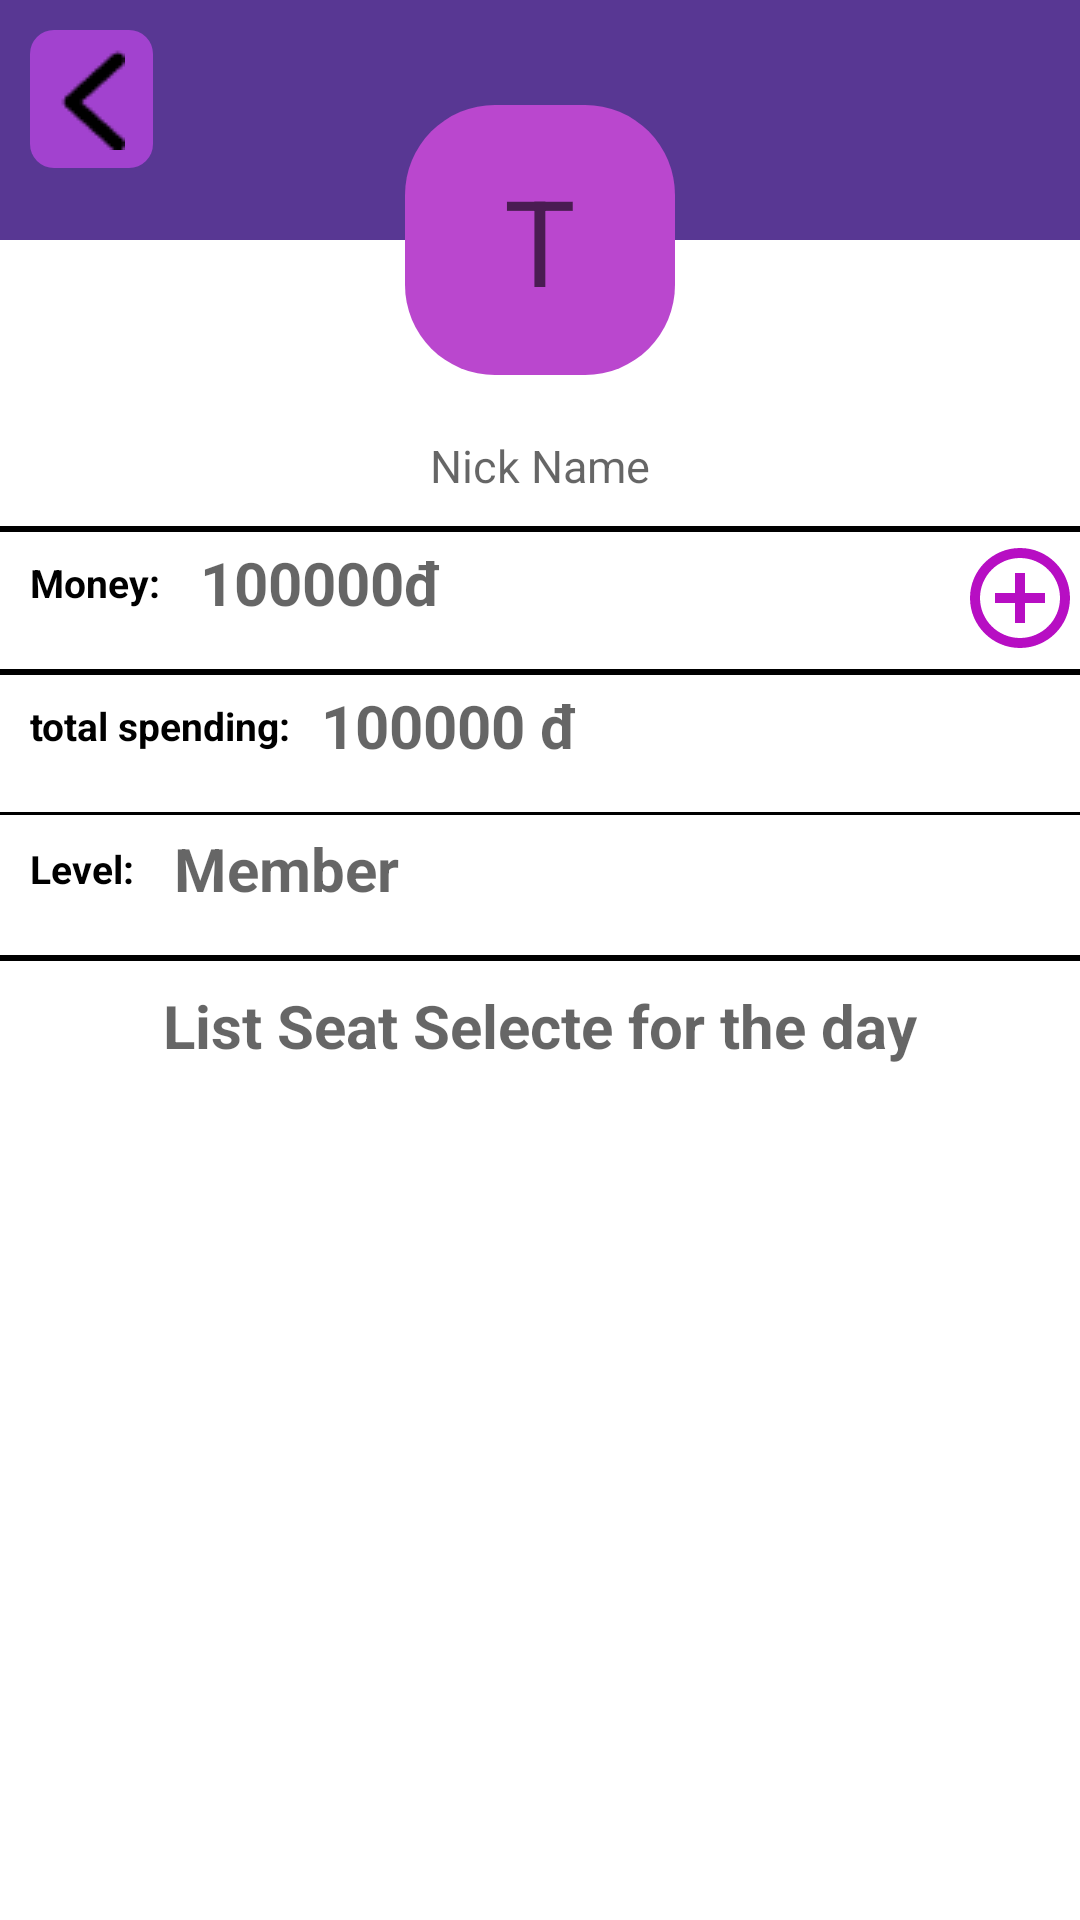

Where to tap for icons on this 1080 × 1920 app screen, as (x=x, y=y):
add circle: (x=1020, y=598)
